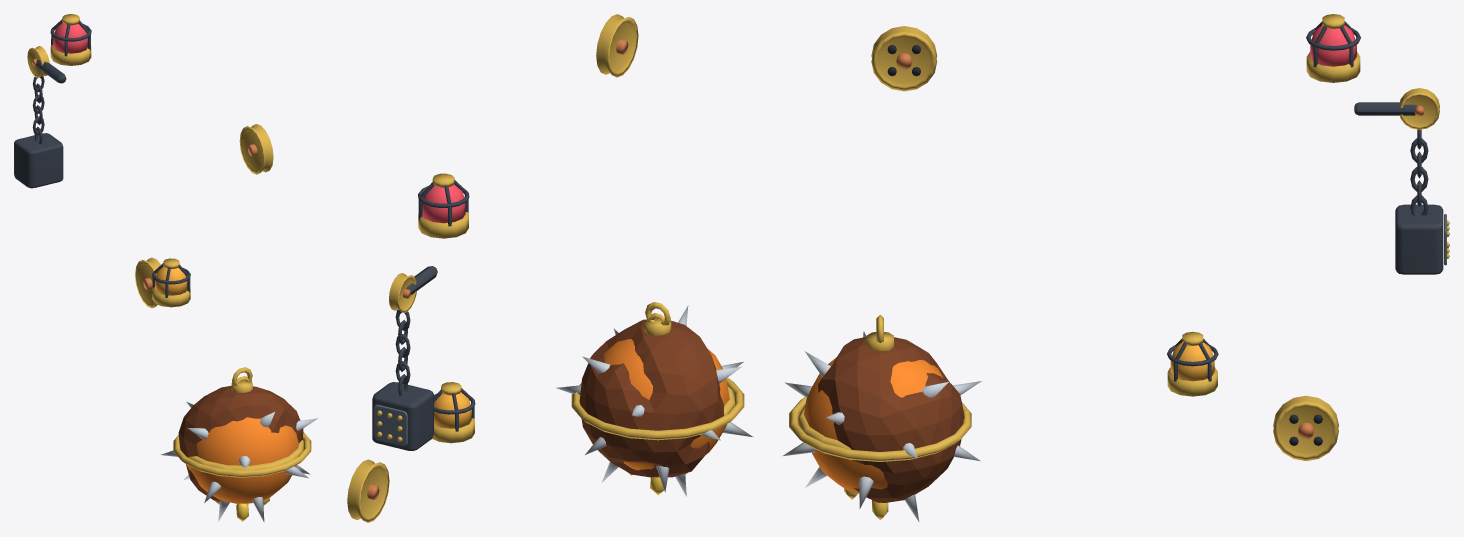
File: WreckingCrane_T2_Upgrades.fbx
3 renders of one model, left to right at view 1: azimuth 30°, elevation 25°; view 2: azimuth 150°, elevation 25°; view 3: azimuth 270°, elevation 25°, orthographic. The views are drawn at different scales.
Parts seen in each view (by area): view 1: WreckingCraneT2U5Ball, WreckingCraneT2U5BallGlow, WreckingCraneT2U3Counterweight, WreckingCraneT2U1Ball, WreckingCraneT2U3Pulley1, WreckingCraneT2U2Lamp2, WreckingCraneT2U2Lamp1, WreckingCraneT2U3Pulley2, WreckingCraneT2U2Lamp2Glow, WreckingCraneT2U2Lamp1Glow; view 2: WreckingCraneT2U5Ball, WreckingCraneT2U3Counterweight, WreckingCraneT2U5BallGlow, WreckingCraneT2U1Ball, WreckingCraneT2U3Pulley1, WreckingCraneT2U3Pulley2, WreckingCraneT2U2Lamp2, WreckingCraneT2U2Lamp1, WreckingCraneT2U2Lamp2Glow, WreckingCraneT2U2Lamp1Glow; view 3: WreckingCraneT2U5Ball, WreckingCraneT2U3Counterweight, WreckingCraneT2U5BallGlow, WreckingCraneT2U3Pulley1, WreckingCraneT2U3Pulley2, WreckingCraneT2U1Ball, WreckingCraneT2U2Lamp2, WreckingCraneT2U2Lamp1, WreckingCraneT2U2Lamp2Glow, WreckingCraneT2U2Lamp1Glow.
Boxes of the visible parts, box(x1,y1,x2,y2) form: WreckingCraneT2U5Ball: box(173, 367, 311, 500); WreckingCraneT2U5BallGlow: box(187, 417, 298, 521); WreckingCraneT2U3Counterweight: box(14, 46, 66, 188); WreckingCraneT2U1Ball: box(160, 376, 317, 521); WreckingCraneT2U3Pulley1: box(239, 124, 273, 174); WreckingCraneT2U2Lamp2: box(50, 14, 91, 65); WreckingCraneT2U2Lamp1: box(152, 258, 190, 307); WreckingCraneT2U3Pulley2: box(135, 257, 161, 308); WreckingCraneT2U2Lamp2Glow: box(53, 22, 87, 53); WreckingCraneT2U2Lamp1Glow: box(155, 266, 187, 295); WreckingCraneT2U5Ball: box(571, 302, 744, 477); WreckingCraneT2U3Counterweight: box(372, 266, 437, 450); WreckingCraneT2U5BallGlow: box(603, 339, 729, 495); WreckingCraneT2U1Ball: box(556, 305, 753, 496); WreckingCraneT2U3Pulley1: box(596, 14, 638, 77); WreckingCraneT2U3Pulley2: box(347, 459, 389, 522); WreckingCraneT2U2Lamp2: box(418, 173, 469, 238); WreckingCraneT2U2Lamp1: box(432, 382, 475, 443); WreckingCraneT2U2Lamp2Glow: box(422, 184, 465, 223); WreckingCraneT2U2Lamp1Glow: box(434, 392, 471, 428); WreckingCraneT2U5Ball: box(789, 314, 971, 502); WreckingCraneT2U3Counterweight: box(1354, 88, 1449, 274); WreckingCraneT2U5BallGlow: box(803, 357, 943, 520); WreckingCraneT2U3Pulley1: box(871, 26, 937, 91); WreckingCraneT2U3Pulley2: box(1273, 395, 1338, 460); WreckingCraneT2U1Ball: box(782, 331, 981, 521); WreckingCraneT2U2Lamp2: box(1306, 14, 1360, 82); WreckingCraneT2U2Lamp1: box(1167, 331, 1218, 396); WreckingCraneT2U2Lamp2Glow: box(1310, 25, 1356, 66); WreckingCraneT2U2Lamp1Glow: box(1170, 342, 1214, 381).
Bounding box in the file's own units: 100 × 253 × 306.
